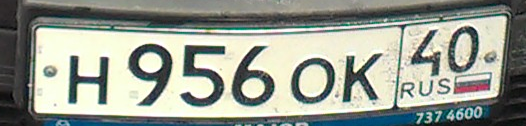character: (177, 42, 228, 111), (124, 42, 174, 111), (231, 41, 279, 108), (64, 51, 112, 111), (288, 59, 338, 107), (340, 50, 385, 103), (446, 25, 482, 74), (407, 29, 444, 75)
